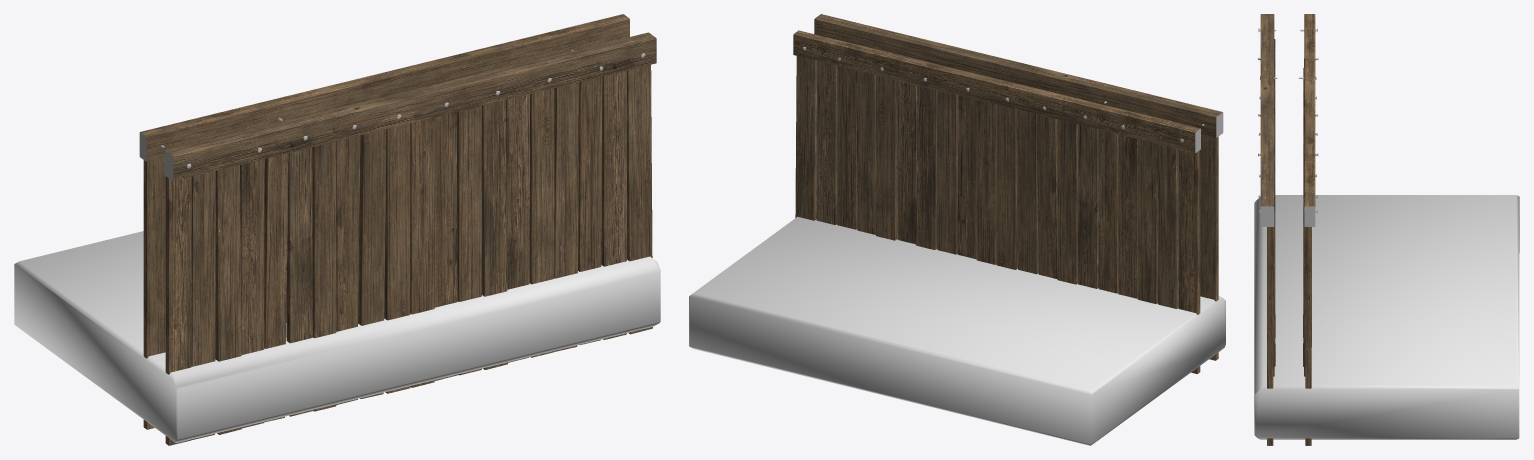
File: SM_Wall_LowPart_B.fbx
3 views of the same model, side by side, from view 1: azimuth 30°, elevation 25°; view 2: azimuth 150°, elevation 25°; view 3: azimuth 270°, elevation 25° (orthographic). The views are drawn at different scales.
Visible parts, largest first — view 1: SM_Wall_LowPart_B, SM_Wall_LowPart_B_ConvexHulls; view 2: SM_Wall_LowPart_B, SM_Wall_LowPart_B_ConvexHulls; view 3: SM_Wall_LowPart_B_ConvexHulls, SM_Wall_LowPart_B.
Part boxes in pixels (x1,y1,x2,y2): SM_Wall_LowPart_B: (139,14,656,445); SM_Wall_LowPart_B_ConvexHulls: (14,231,660,442); SM_Wall_LowPart_B: (793,14,1223,374); SM_Wall_LowPart_B_ConvexHulls: (689,216,1225,445); SM_Wall_LowPart_B_ConvexHulls: (1254,195,1519,439); SM_Wall_LowPart_B: (1258,14,1318,445).
Size of the model in its own units: 3.01 by 1.74 by 1.75.
